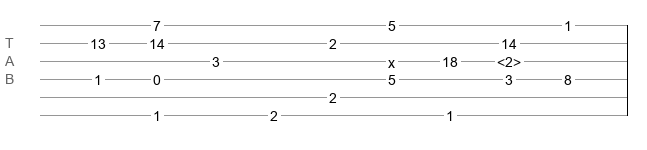0: (153, 72, 161, 82)
1: (94, 72, 102, 82), (153, 108, 161, 118), (446, 108, 454, 118), (564, 18, 572, 28)
13: (90, 36, 106, 46)
14: (149, 36, 165, 46), (501, 36, 517, 46)
18: (442, 54, 458, 64)
2: (270, 108, 278, 118), (329, 90, 337, 100), (329, 36, 337, 46)
3: (212, 54, 220, 64), (505, 72, 513, 82)
5: (388, 18, 396, 28), (388, 72, 396, 82)
7: (153, 18, 161, 28)
8: (564, 72, 572, 82)
harmonic: (497, 54, 521, 64)
x: (388, 55, 395, 63)
